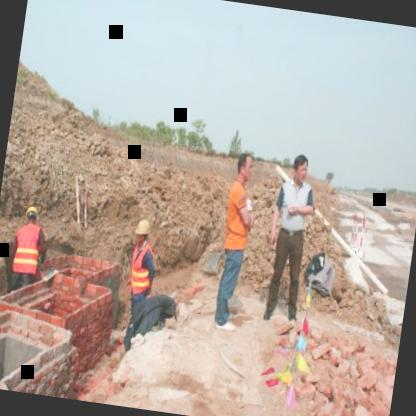head: (234, 144, 258, 186), (289, 150, 311, 184)
helmet: (130, 214, 154, 249), (22, 199, 40, 226)
